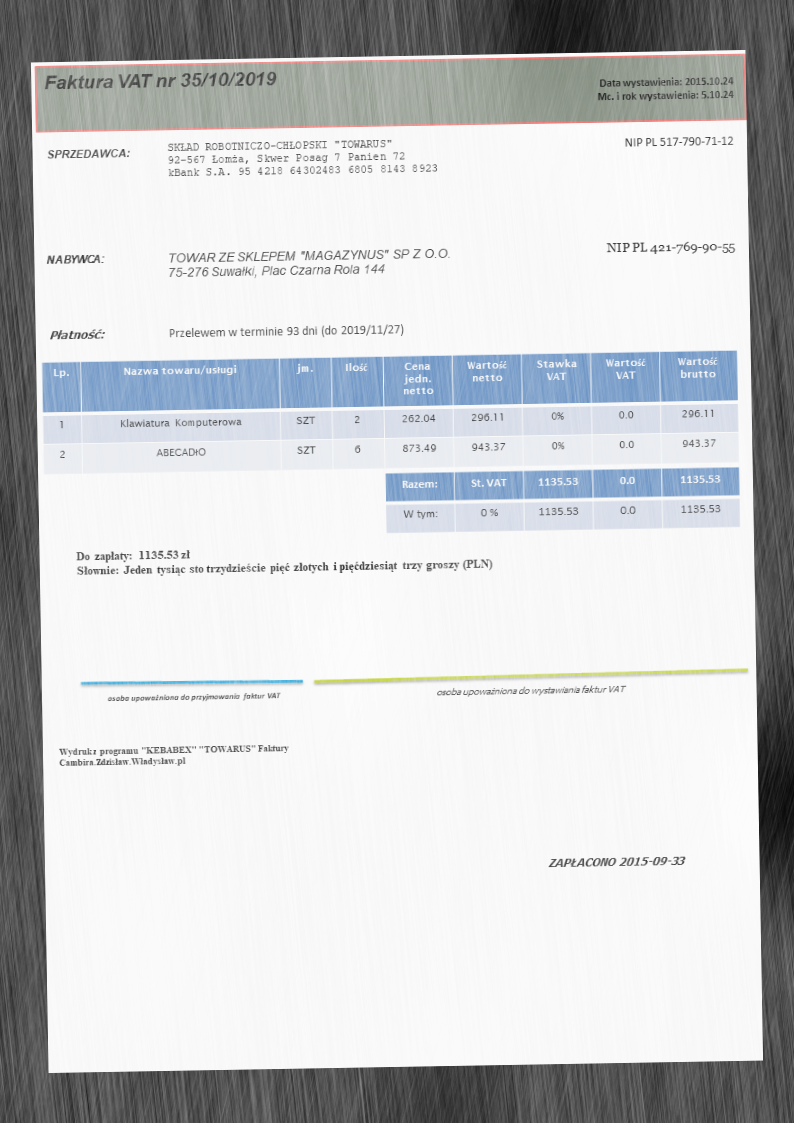Table: (41, 349, 740, 475), (384, 465, 742, 534)
TextBox: (73, 540, 496, 580), (165, 135, 439, 179), (166, 245, 456, 281), (55, 741, 293, 770), (42, 68, 279, 93), (167, 321, 404, 340), (595, 74, 736, 103), (434, 682, 630, 698), (605, 237, 737, 258), (546, 852, 687, 870), (105, 690, 282, 704), (622, 132, 735, 150), (45, 145, 132, 162), (44, 251, 105, 267), (48, 327, 107, 342)
